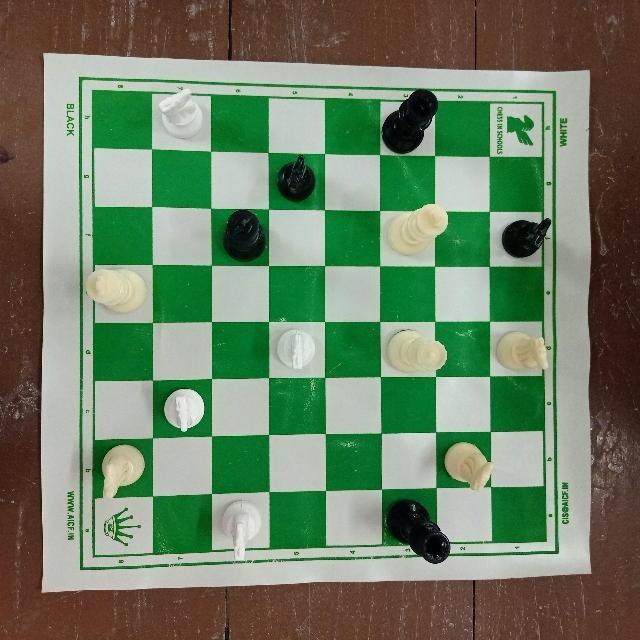black-king: (380, 496, 456, 571), (380, 82, 445, 155), (213, 200, 269, 261)
black-knight: (501, 211, 558, 259), (276, 153, 322, 207)
white-king: (384, 201, 453, 259), (81, 267, 150, 314)
white-knight: (92, 439, 152, 504), (213, 493, 268, 562), (441, 439, 496, 495), (490, 330, 554, 376), (157, 84, 209, 140), (161, 380, 209, 438), (272, 326, 320, 380)
white-queen: (383, 324, 454, 375)
